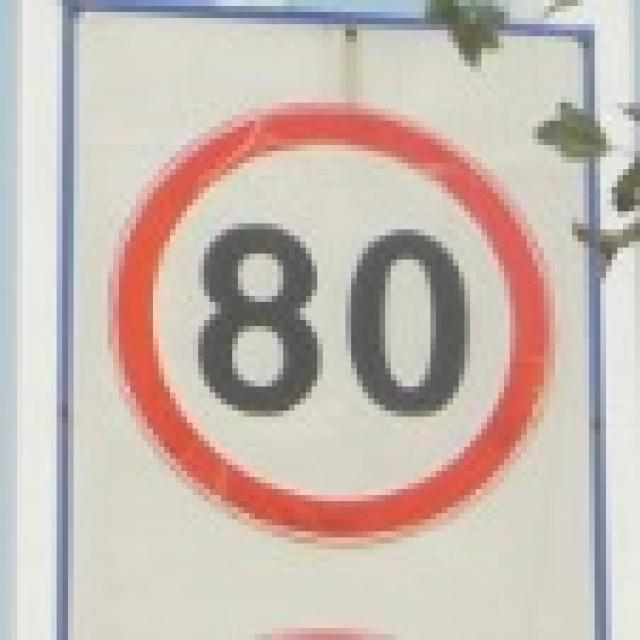Speed Limit -80-: (199, 221, 473, 421)
